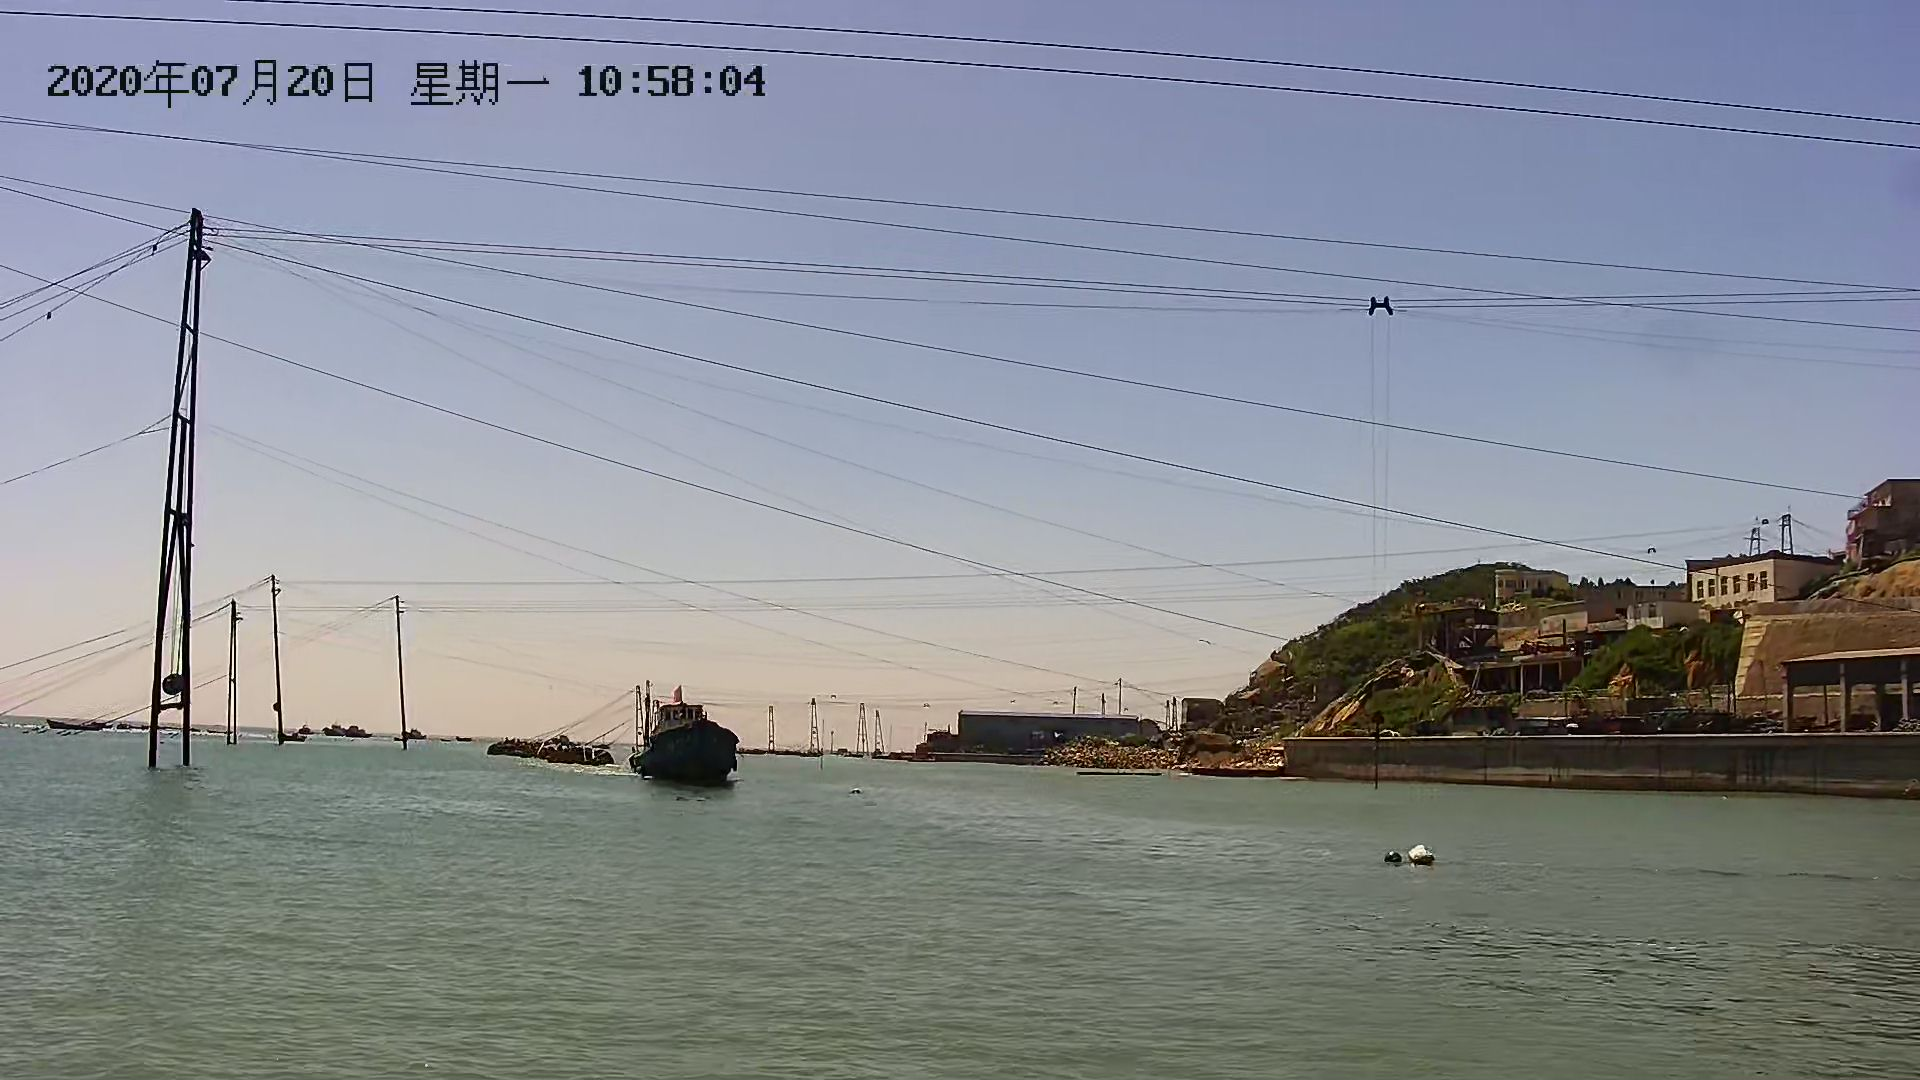ball: (1379, 847, 1404, 872)
boat: (40, 713, 116, 735)
mast: (149, 214, 196, 767), (262, 578, 290, 745), (392, 588, 415, 756), (223, 597, 243, 748)
rubbish: (485, 731, 612, 769), (1407, 844, 1437, 866)
ship: (629, 698, 742, 793)
